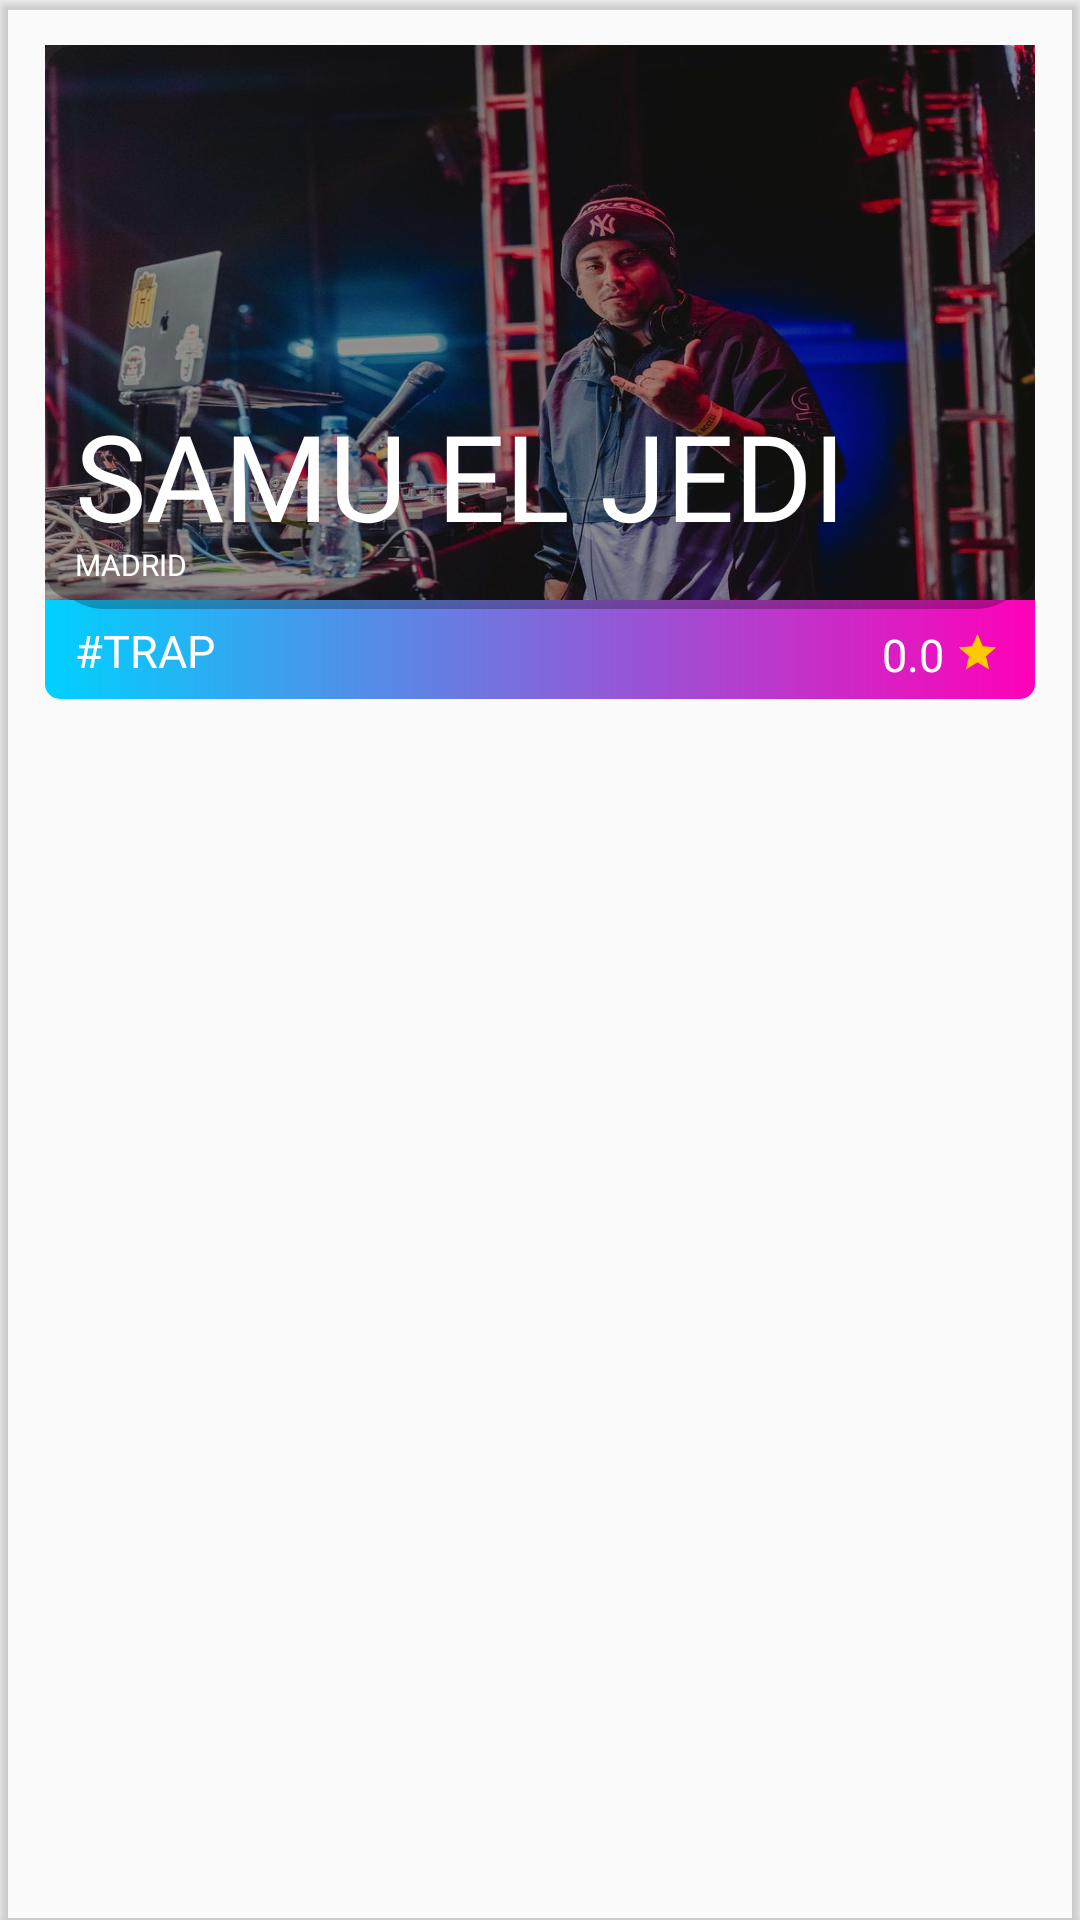

Named icons in this screenshot (1080w x 1920h) and their bounding boxes, [x1, y1, x2, y2]:
estrella: [959, 624, 1011, 681]
